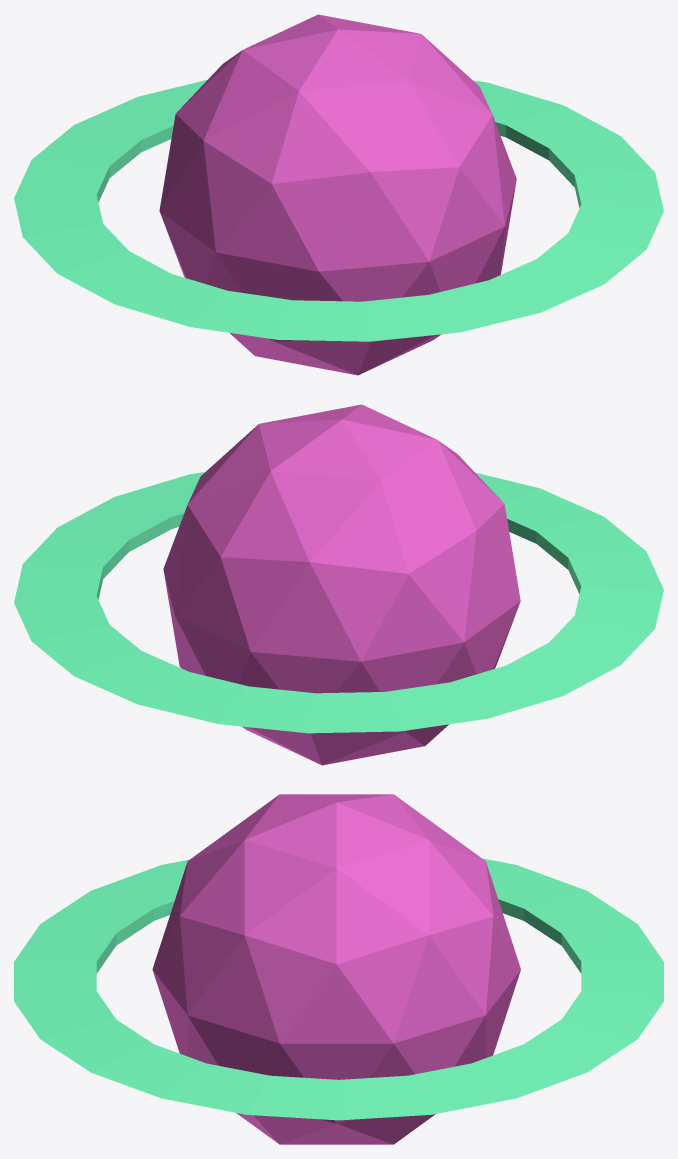
The model's file is plannet3.fbx.
3 views of the same model, one above another, from view 1: azimuth 30°, elevation 25°; view 2: azimuth 150°, elevation 25°; view 3: azimuth 270°, elevation 25° (orthographic).
Parts seen in each view (by area): view 1: planet3, belt.3; view 2: planet3, belt.3; view 3: planet3, belt.3.
Boxes of the visible parts, <box> form: planet3: <box>159,14,516,375</box>; belt.3: <box>14,80,663,341</box>; planet3: <box>163,404,520,765</box>; belt.3: <box>14,472,663,733</box>; planet3: <box>152,794,520,1144</box>; belt.3: <box>14,858,663,1120</box>.
Bounding box in the file's own units: 4024 × 2259 × 3983.
